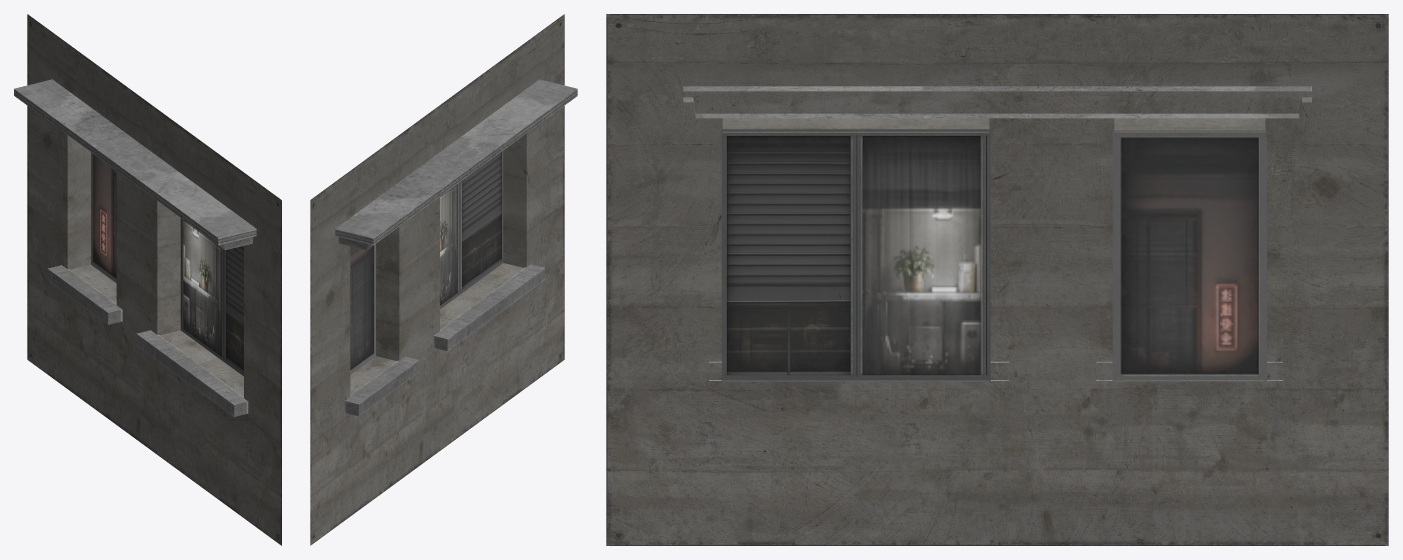
File: CP_Windows_C_4x3m_01.fbx
The picture shows the model from 3 angles, left to right: view 1: azimuth 30°, elevation 25°; view 2: azimuth 150°, elevation 25°; view 3: azimuth 270°, elevation 25°; orthographic projection. The views are drawn at different scales.
Parts seen in each view (by area): view 1: CP_Windows_C_4x3m_01; view 2: CP_Windows_C_4x3m_01; view 3: CP_Windows_C_4x3m_01.
Part boxes in pixels (x1,y1,x2,y2): CP_Windows_C_4x3m_01: (14, 14, 281, 545); CP_Windows_C_4x3m_01: (310, 14, 577, 545); CP_Windows_C_4x3m_01: (606, 14, 1388, 545).
Size of the model in its own units: 57.09 by 300 by 400.
